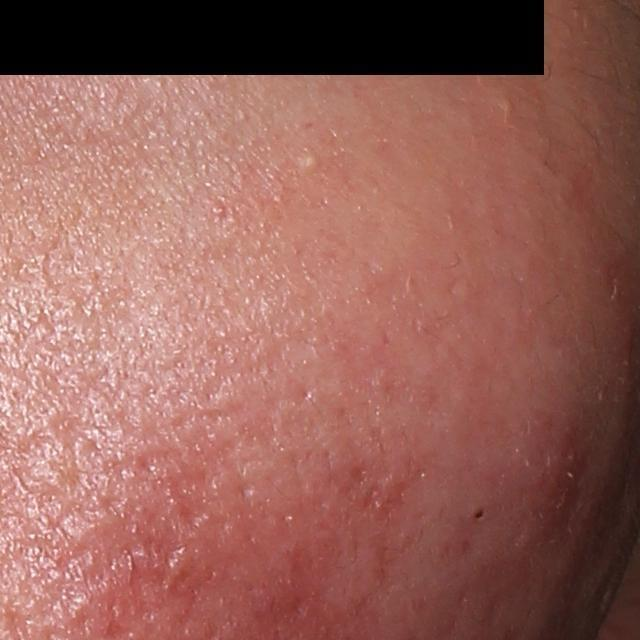comedo: (491, 93, 517, 119), (300, 150, 324, 176), (464, 503, 488, 528)
